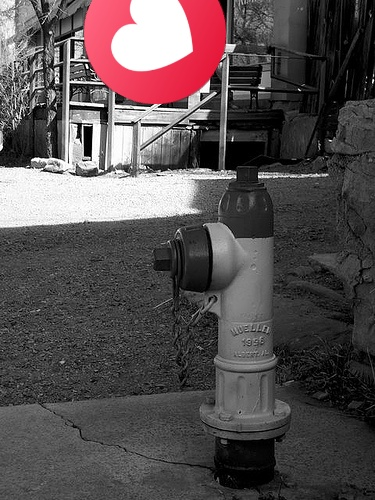love: (84, 0, 226, 104)
